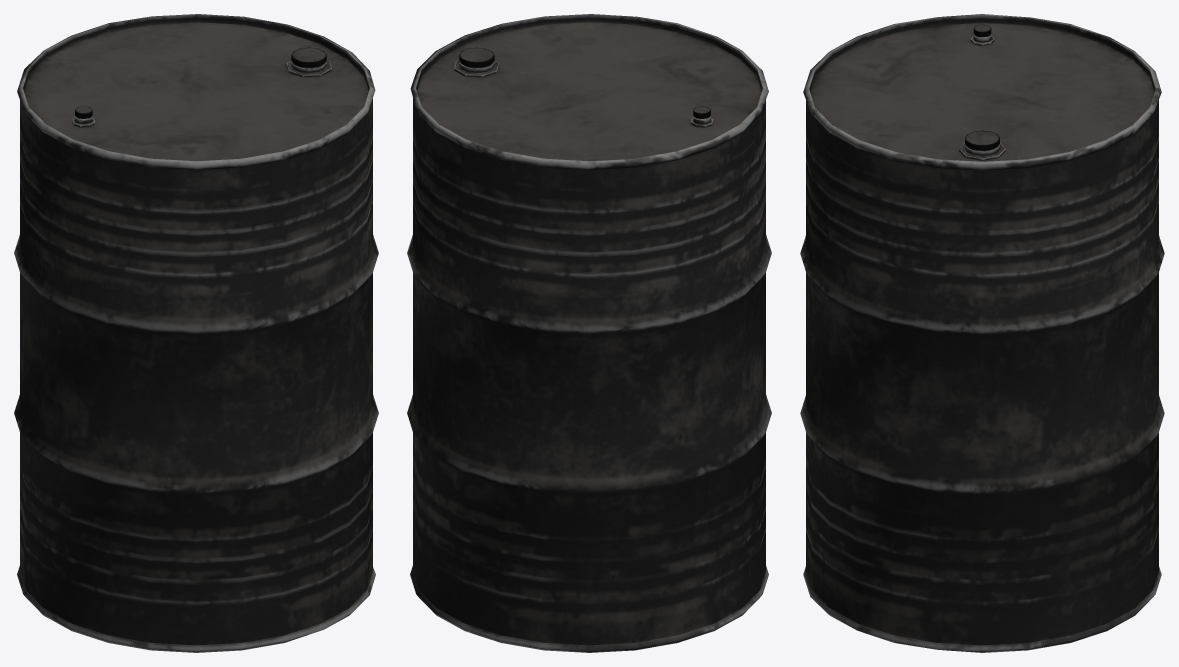
Rendered from barilnoir2mini.gltf.
The picture shows the model from 3 angles, left to right: view 1: azimuth 30°, elevation 25°; view 2: azimuth 150°, elevation 25°; view 3: azimuth 270°, elevation 25°; orthographic projection.
Visible parts, largest first — view 1: Barrel_Black_02_Barrel_Black_02_0; view 2: Barrel_Black_02_Barrel_Black_02_0; view 3: Barrel_Black_02_Barrel_Black_02_0.
Part boxes in pixels (left/top/right/bottom): Barrel_Black_02_Barrel_Black_02_0: left=14, top=14, right=378, bottom=652; Barrel_Black_02_Barrel_Black_02_0: left=407, top=14, right=771, bottom=652; Barrel_Black_02_Barrel_Black_02_0: left=800, top=14, right=1164, bottom=652.
Bounding box in the file's own units: 0.8565 × 1.28 × 0.8565.
Materials: 1 (1 with a texture image).
